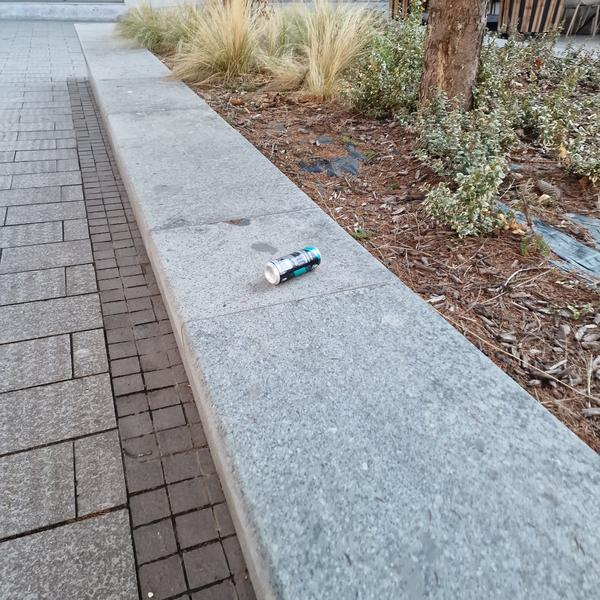can: (260, 239, 326, 290)
